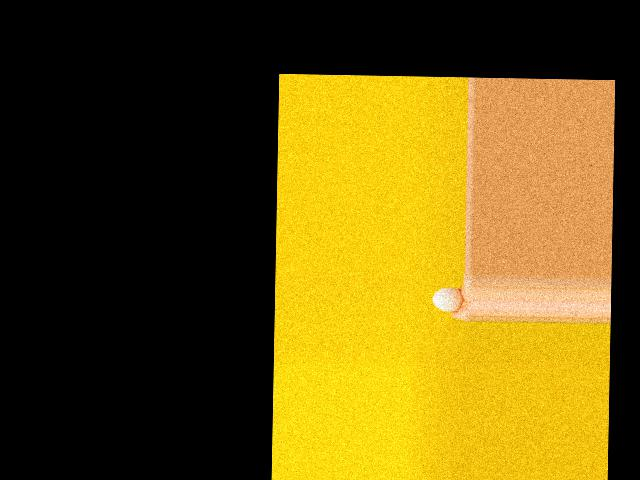egg: (432, 288, 463, 311)
